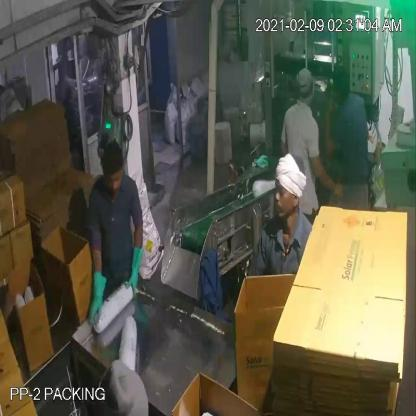glove: (78, 254, 114, 333), (126, 229, 148, 306)
no_glove: (306, 139, 346, 202), (316, 93, 346, 156)
